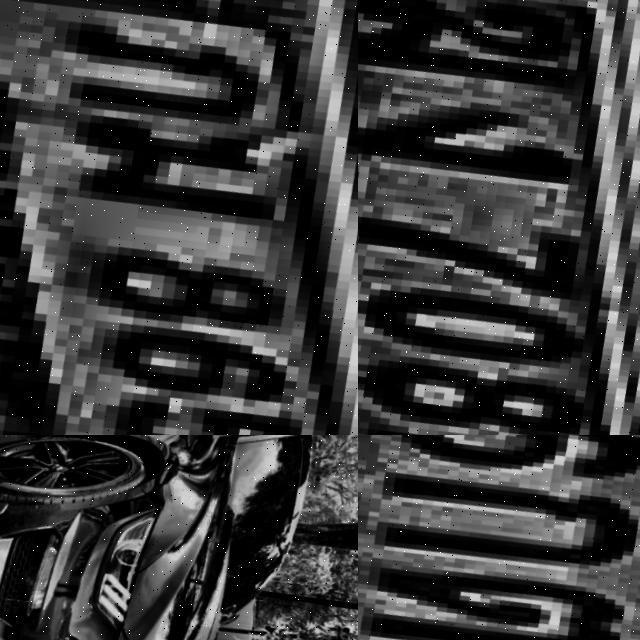license-plate: (0, 0, 358, 435), (358, 0, 640, 435), (358, 435, 640, 640)
